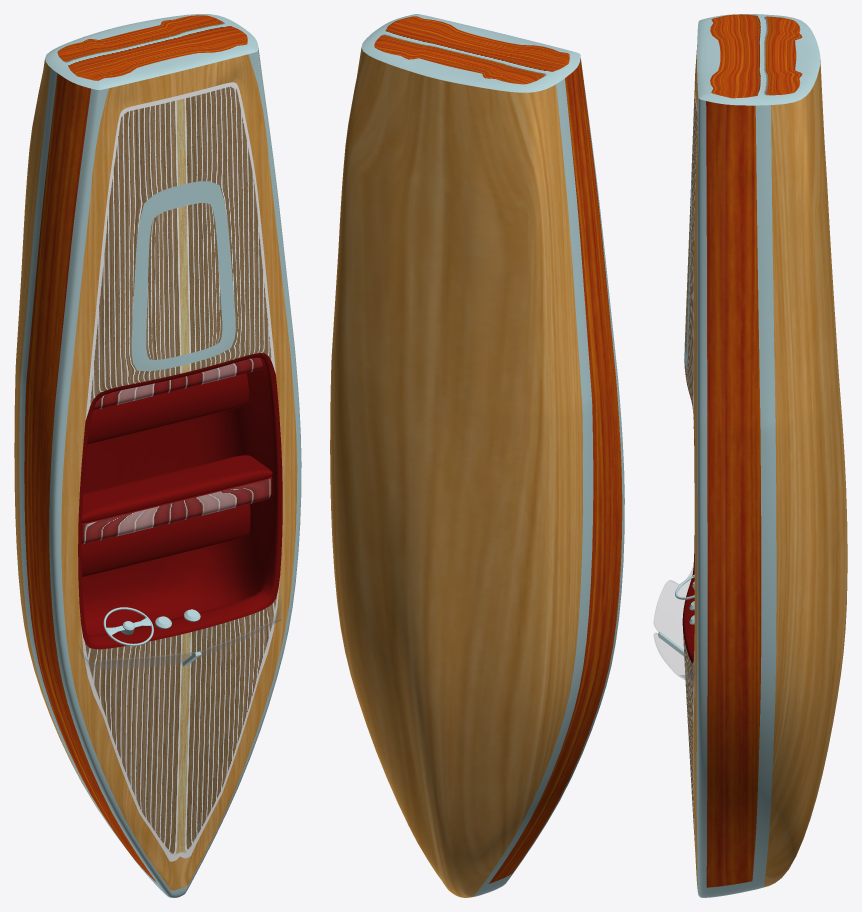
File: 10634_SpeedBoat_v01_LOD3.obj
The picture shows the model from 3 angles, left to right: view 1: azimuth 30°, elevation 25°; view 2: azimuth 150°, elevation 25°; view 3: azimuth 270°, elevation 25°; orthographic projection. The views are drawn at different scales.
Parts seen in each view (by area): view 1: 10634_SpeedBoat_v01; view 2: 10634_SpeedBoat_v01; view 3: 10634_SpeedBoat_v01.
Part boxes in pixels (x1=…): 10634_SpeedBoat_v01: x1=14, y1=14, x2=301, y2=897; 10634_SpeedBoat_v01: x1=330, y1=14, x2=624, y2=897; 10634_SpeedBoat_v01: x1=653, y1=14, x2=847, y2=897.
Bounding box in the file's own units: 139 × 442 × 92.61.
2 materials, 1 textured.
